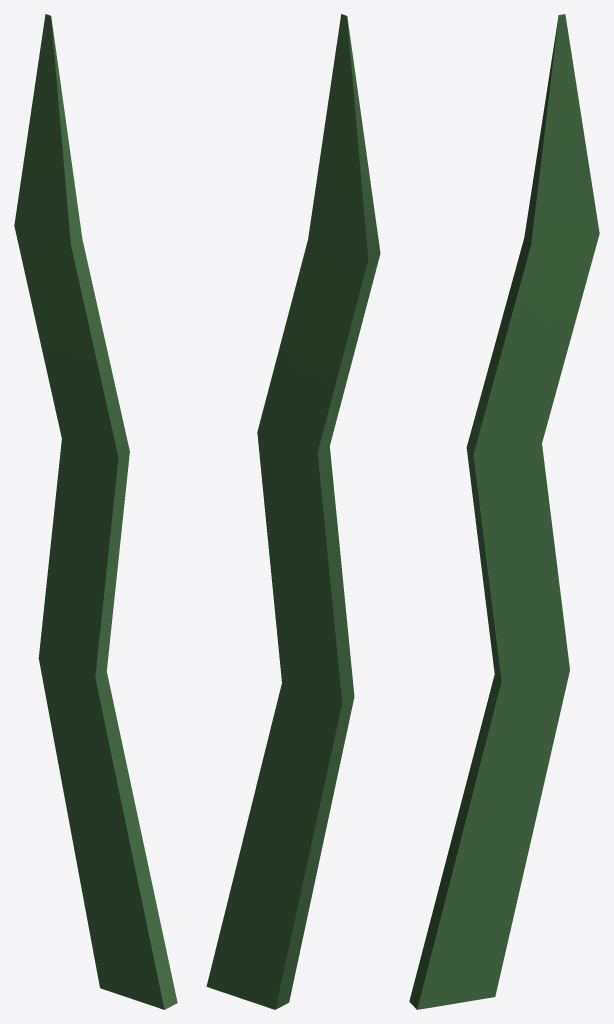
File: runput satuan hijau.fbx
3 renders of one model, left to right at view 1: azimuth 30°, elevation 25°; view 2: azimuth 210°, elevation 25°; view 3: azimuth 270°, elevation 25°, orthographic. The views are drawn at different scales.
Visible parts, largest first — view 1: polySurface4; view 2: polySurface4; view 3: polySurface4.
Boxes of the visible parts, x1,y1,x2,y2 form: polySurface4: [14, 14, 177, 1009]; polySurface4: [206, 14, 380, 1009]; polySurface4: [409, 14, 599, 1009].
Bounding box in the file's own units: 2.37 × 27.99 × 5.
